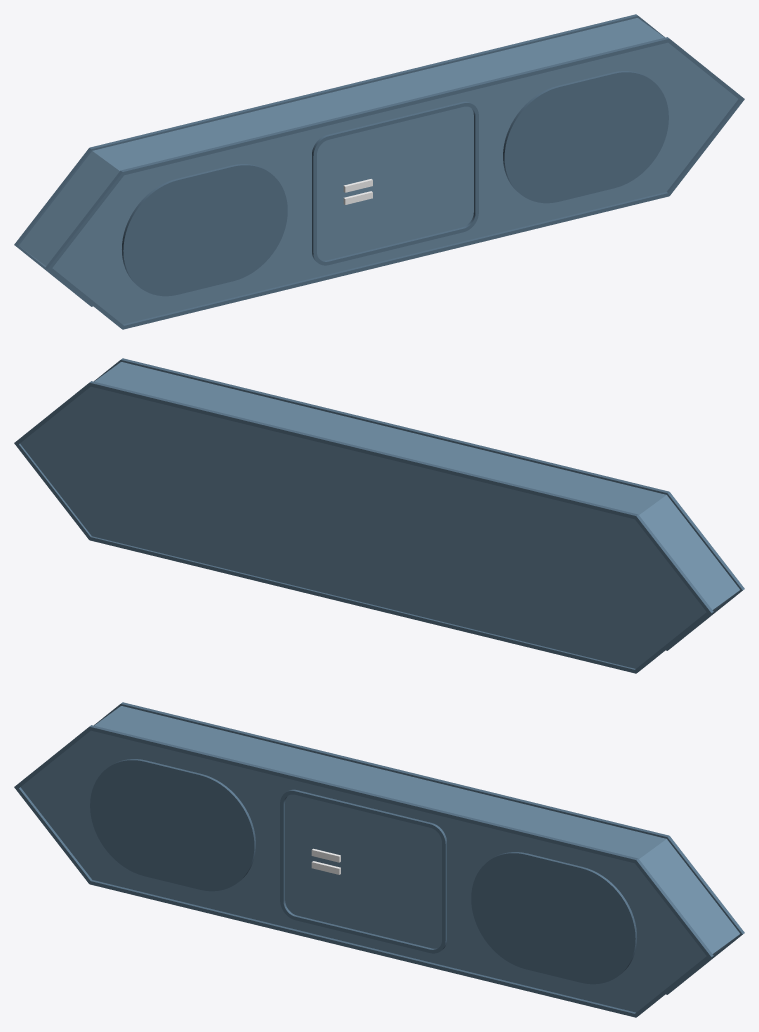
Rendered from logic_compare.gltf.
3 views of the same model, one above another, from view 1: azimuth 30°, elevation 25°; view 2: azimuth 150°, elevation 25°; view 3: azimuth 330°, elevation 25° (orthographic).
Visible parts, largest first — view 1: Extrude.6, Extrude, Extrude.1, Extrude.5, Extrude.4, Extrude.3; view 2: Extrude.6, Extrude.4, Extrude.5; view 3: Extrude.6, Extrude.1, Extrude, Extrude.5, Extrude.4, Extrude.3.
Part boxes in pixels (x1,y1,x2,y2): Extrude.6: (19,18,738,324); Extrude: (503,71,668,203); Extrude.1: (122,164,287,296); Extrude.5: (45,37,744,329); Extrude.4: (14,14,664,306); Extrude.3: (312,101,478,265); Extrude.6: (20,362,739,668); Extrude.4: (14,381,713,673); Extrude.5: (94,358,744,650); Extrude.6: (20,706,739,1012); Extrude.1: (90,759,255,891); Extrude: (471,852,636,984); Extrude.5: (14,725,713,1017); Extrude.4: (94,702,744,994); Extrude.3: (280,789,446,953).
Bounding box in the file's own units: 0.9206 × 0.1988 × 0.0764.
